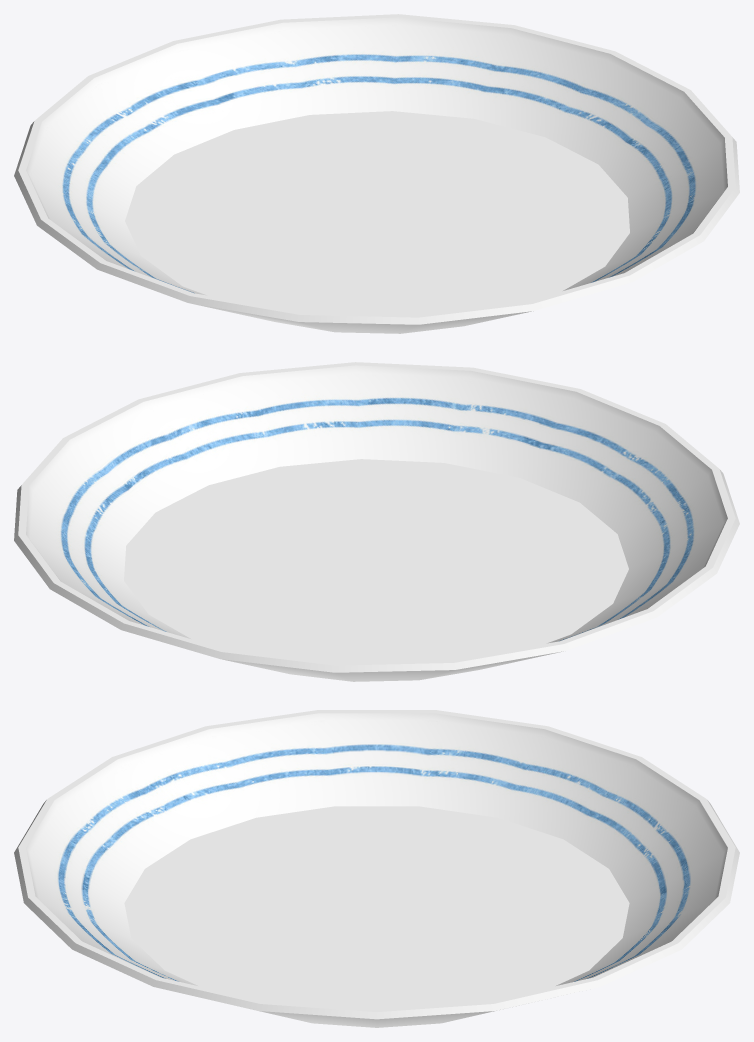
The model's file is plate.glb.
3 renders of one model, top to bottom at view 1: azimuth 30°, elevation 25°; view 2: azimuth 150°, elevation 25°; view 3: azimuth 270°, elevation 25°, orthographic.
Parts seen in each view (by area): view 1: Prato_Material #25_0; view 2: Prato_Material #25_0; view 3: Prato_Material #25_0.
Part boxes in pixels (x1=…): Prato_Material #25_0: x1=14, y1=14, x2=739, y2=333; Prato_Material #25_0: x1=14, y1=362, x2=739, y2=681; Prato_Material #25_0: x1=14, y1=710, x2=739, y2=1027.
Size of the model in its own units: 97.44 by 12.45 by 97.77.
1 material, 1 textured.
